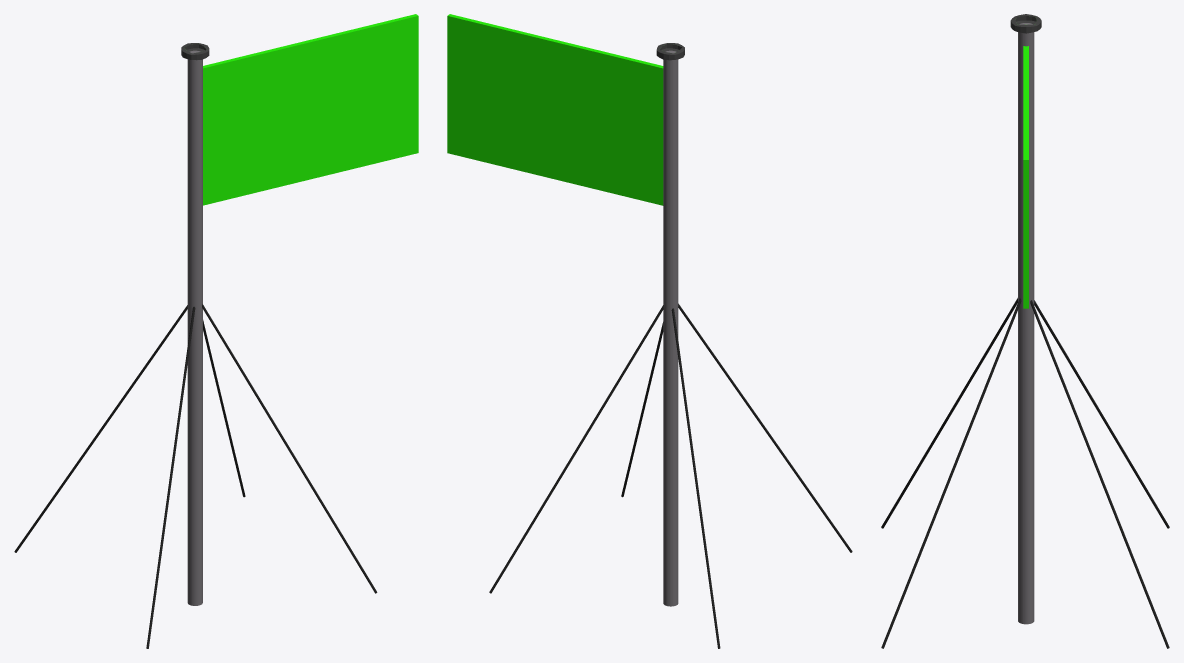
File: OBJETIVO_BASE.glb
The picture shows the model from 3 angles, left to right: view 1: azimuth 30°, elevation 25°; view 2: azimuth 150°, elevation 25°; view 3: azimuth 270°, elevation 25°; orthographic projection. The views are drawn at different scales.
Parts seen in each view (by area): view 1: OBJETIVO_Cubo, OBJETIVO_Cilindro, OBJETIVO_Cilindro_Corda, OBJETIVO_Cilindro_Corda_2, OBJETIVO_Cilindro_Corda_4; view 2: OBJETIVO_Cubo, OBJETIVO_Cilindro, OBJETIVO_Cilindro_Corda_4, OBJETIVO_Cilindro_Corda_3, OBJETIVO_Cilindro_Corda; view 3: OBJETIVO_Cilindro, OBJETIVO_Cubo, OBJETIVO_Cilindro_Corda_2, OBJETIVO_Cilindro_Corda_3, OBJETIVO_Cilindro_Corda, OBJETIVO_Cilindro_Corda_4, OBJETIVO_Cubo_Luz.
Part boxes in pixels (left/top/right/bottom): OBJETIVO_Cubo: left=203, top=14, right=418, bottom=205; OBJETIVO_Cilindro: left=187, top=50, right=202, bottom=605; OBJETIVO_Cilindro_Corda: left=146, top=306, right=195, bottom=648; OBJETIVO_Cilindro_Corda_2: left=202, top=304, right=377, bottom=593; OBJETIVO_Cilindro_Corda_4: left=14, top=305, right=187, bottom=552; OBJETIVO_Cubo: left=447, top=14, right=663, bottom=205; OBJETIVO_Cilindro: left=663, top=50, right=678, bottom=606; OBJETIVO_Cilindro_Corda_4: left=671, top=308, right=720, bottom=648; OBJETIVO_Cilindro_Corda_3: left=489, top=305, right=663, bottom=593; OBJETIVO_Cilindro_Corda: left=678, top=303, right=852, bottom=552; OBJETIVO_Cilindro: left=1018, top=23, right=1034, bottom=624; OBJETIVO_Cubo: left=1023, top=46, right=1028, bottom=308; OBJETIVO_Cilindro_Corda_2: left=881, top=298, right=1021, bottom=648; OBJETIVO_Cilindro_Corda_3: left=1030, top=300, right=1169, bottom=648; OBJETIVO_Cilindro_Corda: left=881, top=298, right=1017, bottom=528; OBJETIVO_Cilindro_Corda_4: left=1034, top=300, right=1169, bottom=528; OBJETIVO_Cubo_Luz: left=1010, top=14, right=1041, bottom=33.
Size of what is drawn, in the model's own units: 0.7712 by 1.21 by 0.5279.
Materials: 4 (3 with a texture image).
